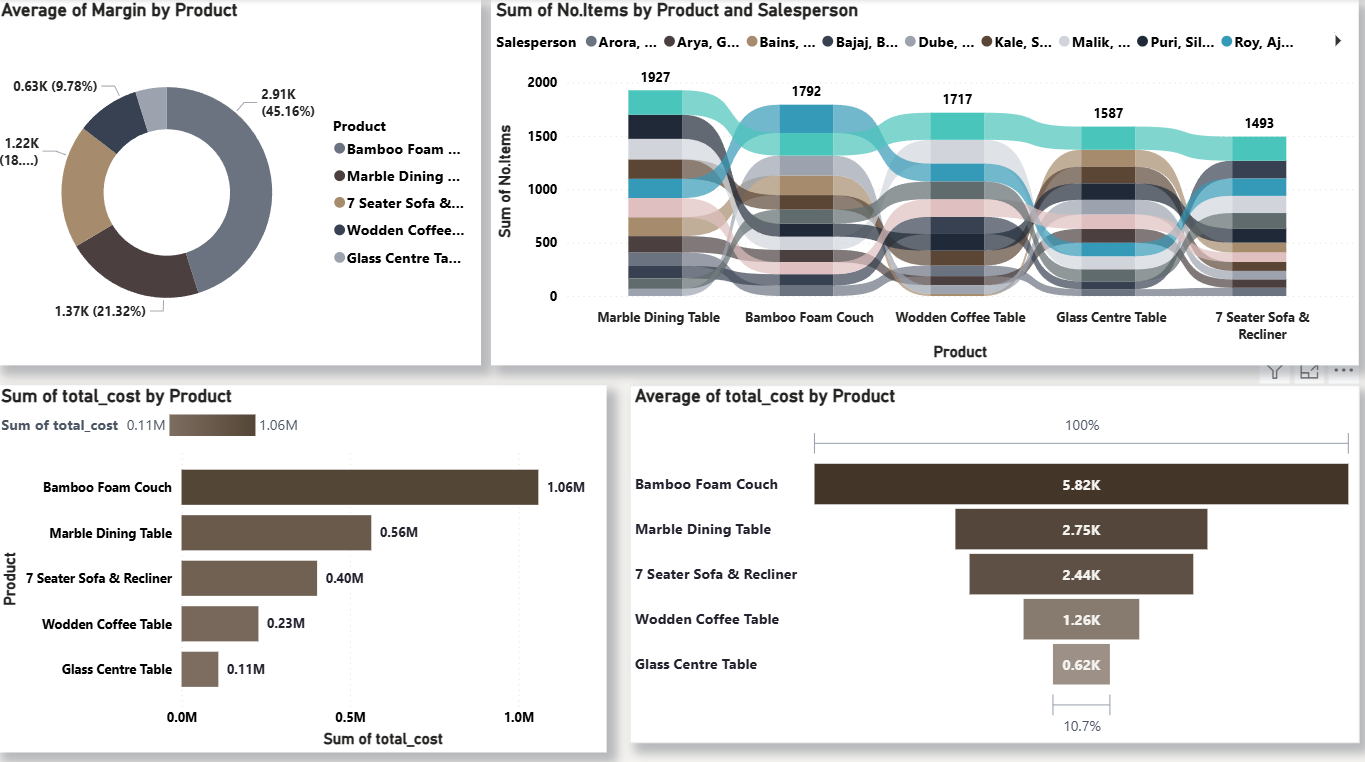

Layout of this report page (visuals, bound fields, positions):
{"tool":"powerbi","page":{"name":"Page 3","canvas":[1280,720],"ordinal":2},"visuals":[{"type":"donutChart","fields":{"Y":["Avg(Raw_Data.Margin)"],"Category":["Raw_Data.Product"]},"box":[0,0,451.2,341.2],"z":0},{"type":"clusteredBarChart","fields":{"Y":["Sum(Raw_Data.total_cost)"],"Category":["Raw_Data.Product"]},"box":[0,359.5,568.2,341.4],"z":1000},{"type":"funnel","fields":{"Y":["Avg(Raw_Data.total_cost)"],"Category":["Raw_Data.Product"]},"box":[589.4,359.5,678.7,332.6],"z":2000},{"type":"ribbonChart","fields":{"Y":["Sum(Raw_Data.No.Items)"],"Category":["Raw_Data.Product"],"Series":["Raw_Data.Salesperson"]},"box":[461,0,807,341],"z":3000}]}

Visuals, with their boxes in screenshot pixels (x1, y1, x2, y2), scaled from the page's 1280x720 canvas onto the 1365x762 screenshot:
donutChart - Avg(Raw_Data.Margin) x Raw_Data.Product: (left=0, top=0, right=481, bottom=361)
clusteredBarChart - Sum(Raw_Data.total_cost) x Raw_Data.Product: (left=0, top=380, right=606, bottom=742)
funnel - Avg(Raw_Data.total_cost) x Raw_Data.Product: (left=629, top=380, right=1352, bottom=732)
ribbonChart - Sum(Raw_Data.No.Items) x Raw_Data.Product: (left=492, top=0, right=1352, bottom=361)
